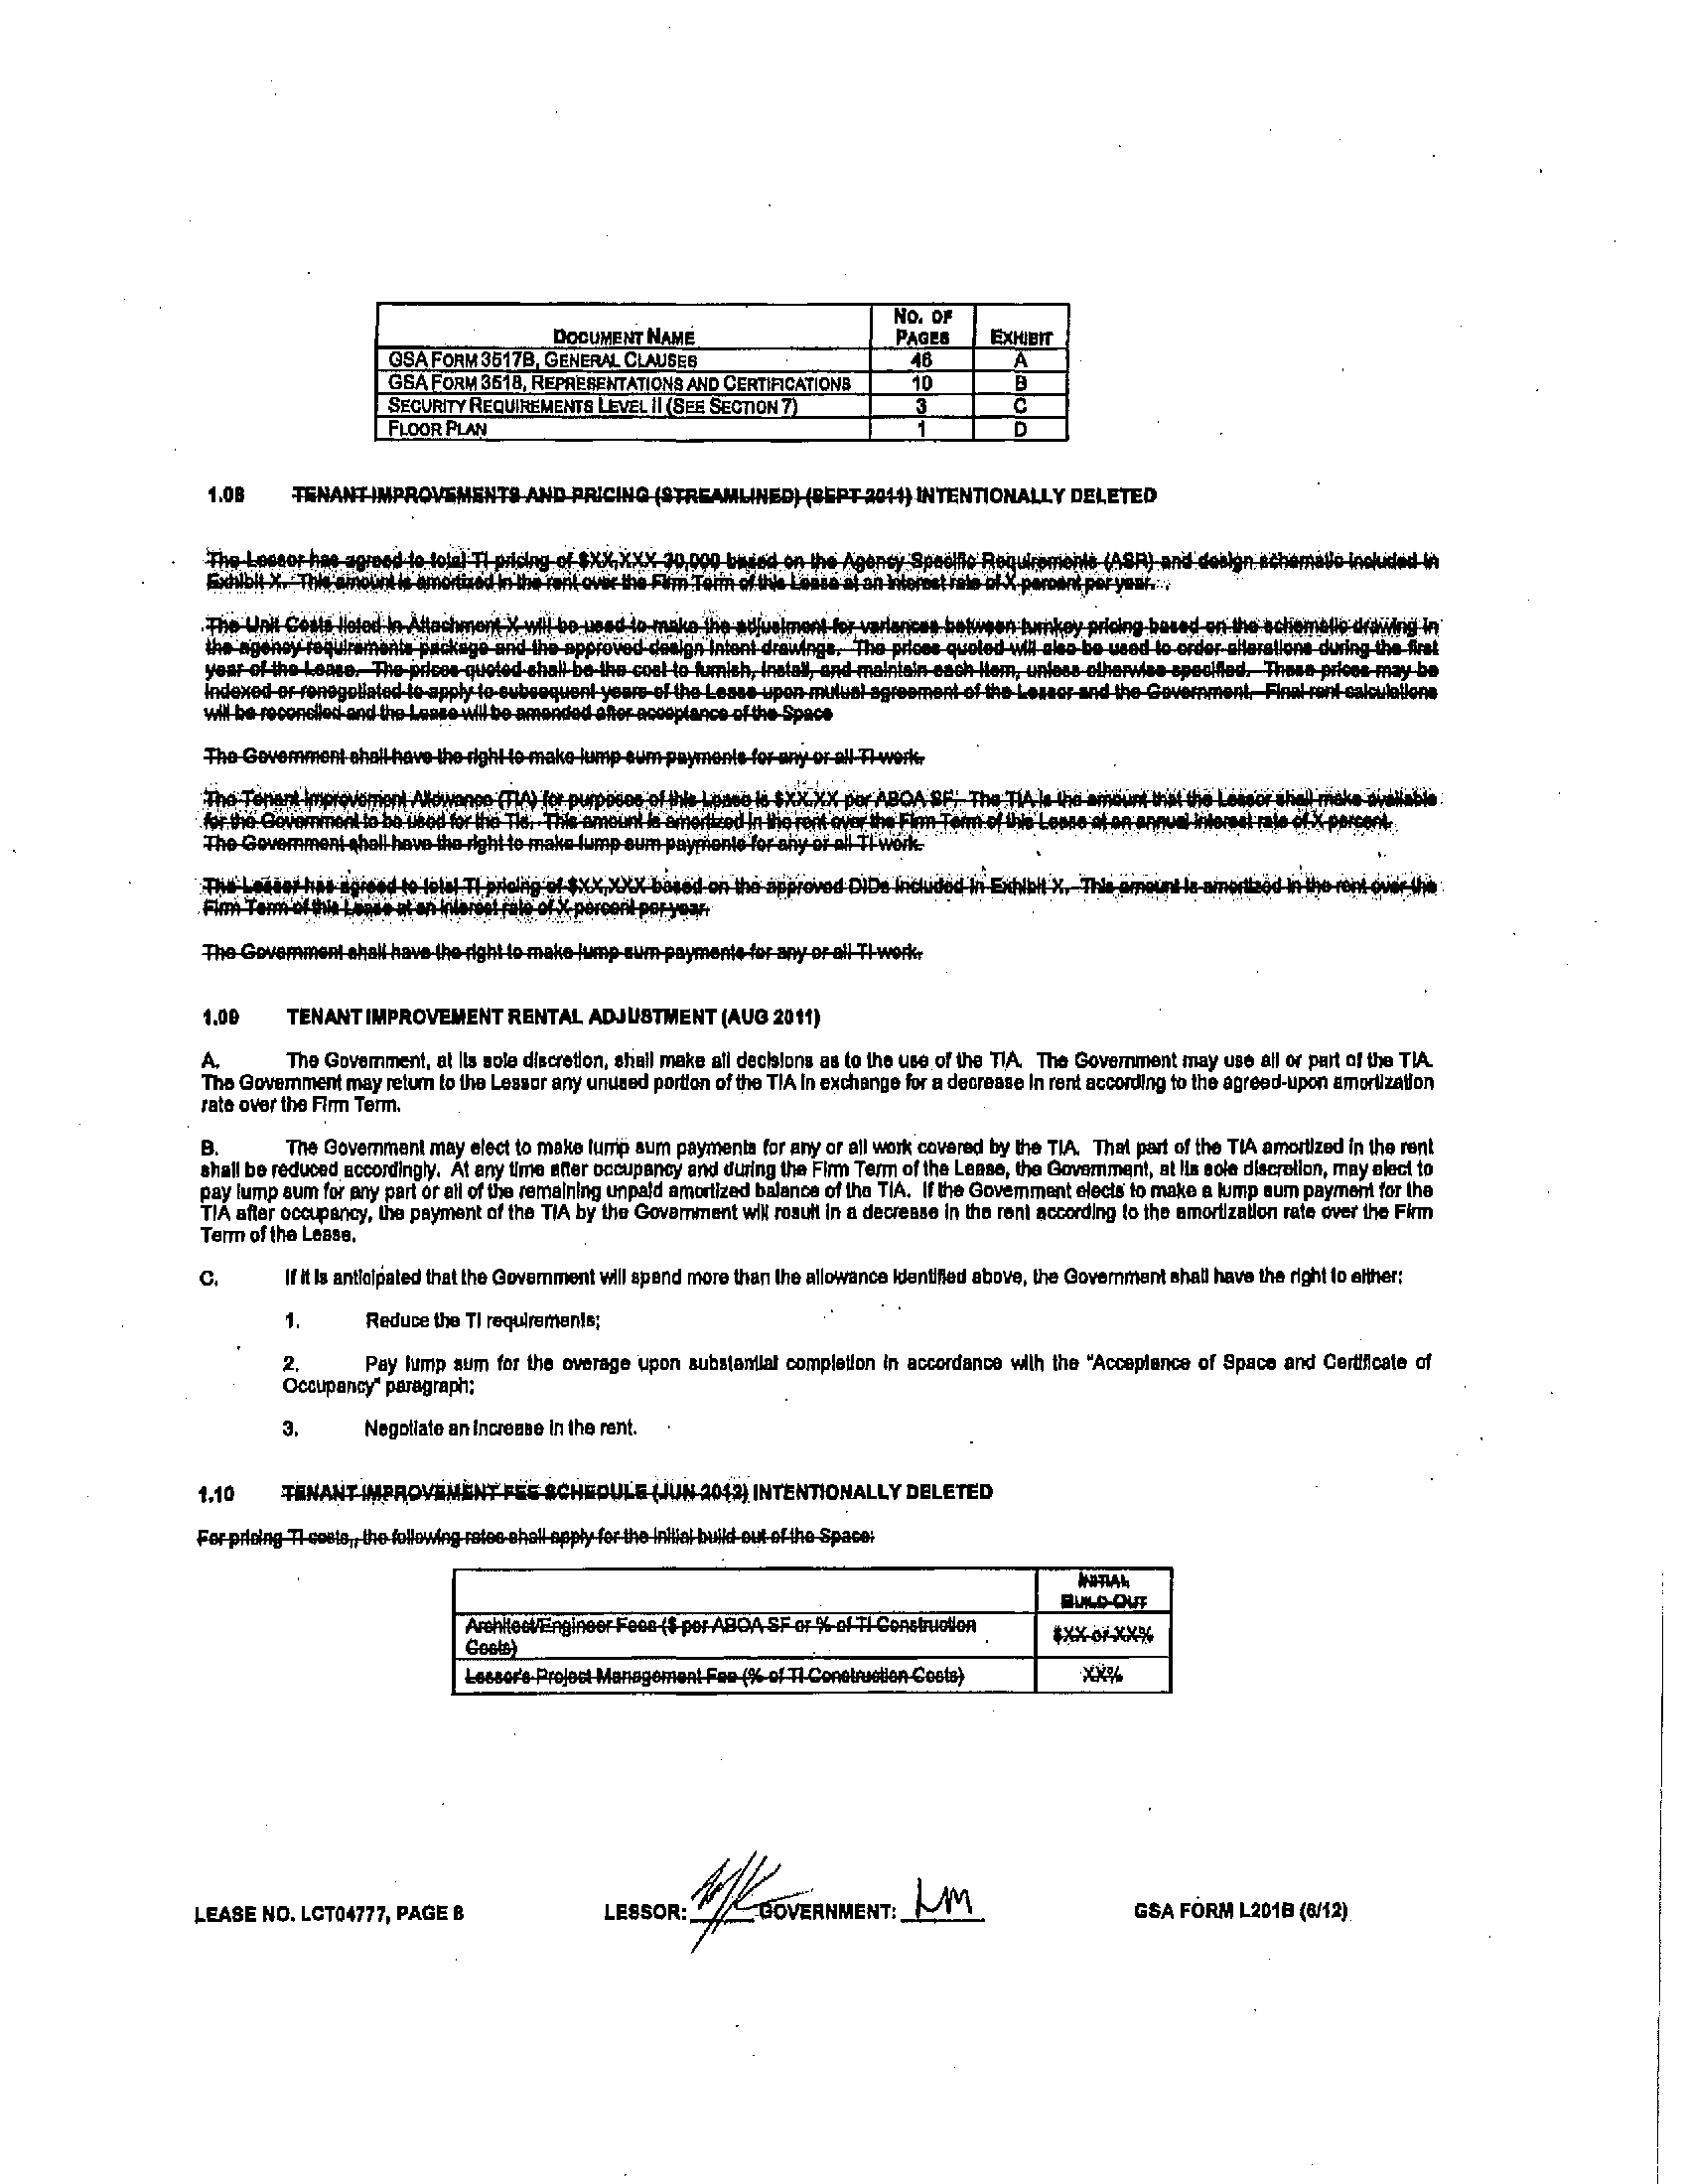handwritten: (670, 1829, 778, 1950), (901, 1860, 988, 1916)
